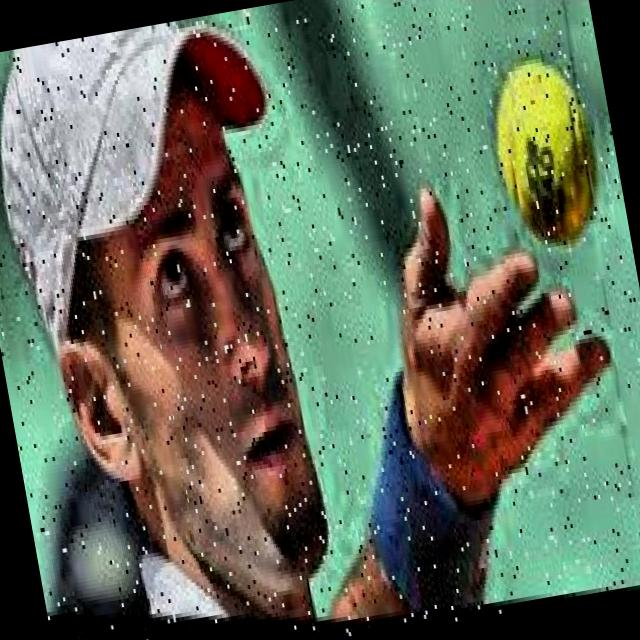Tennis Ball: (473, 33, 616, 260)
